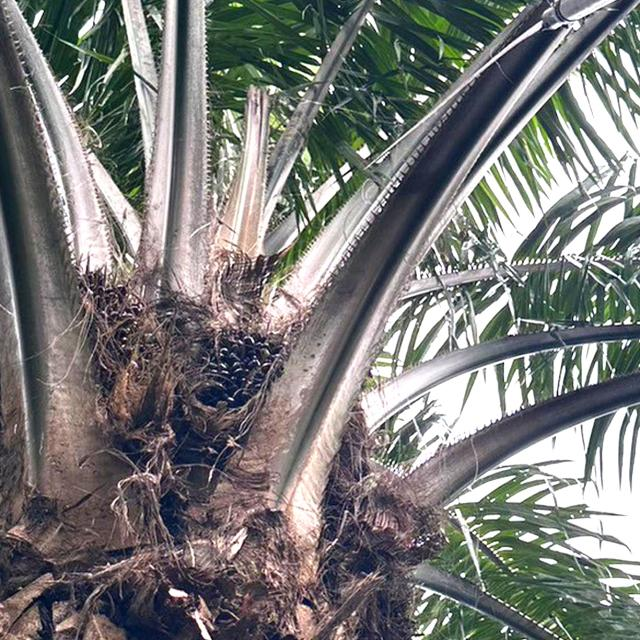unripe: (52, 260, 184, 456), (174, 294, 307, 482)
